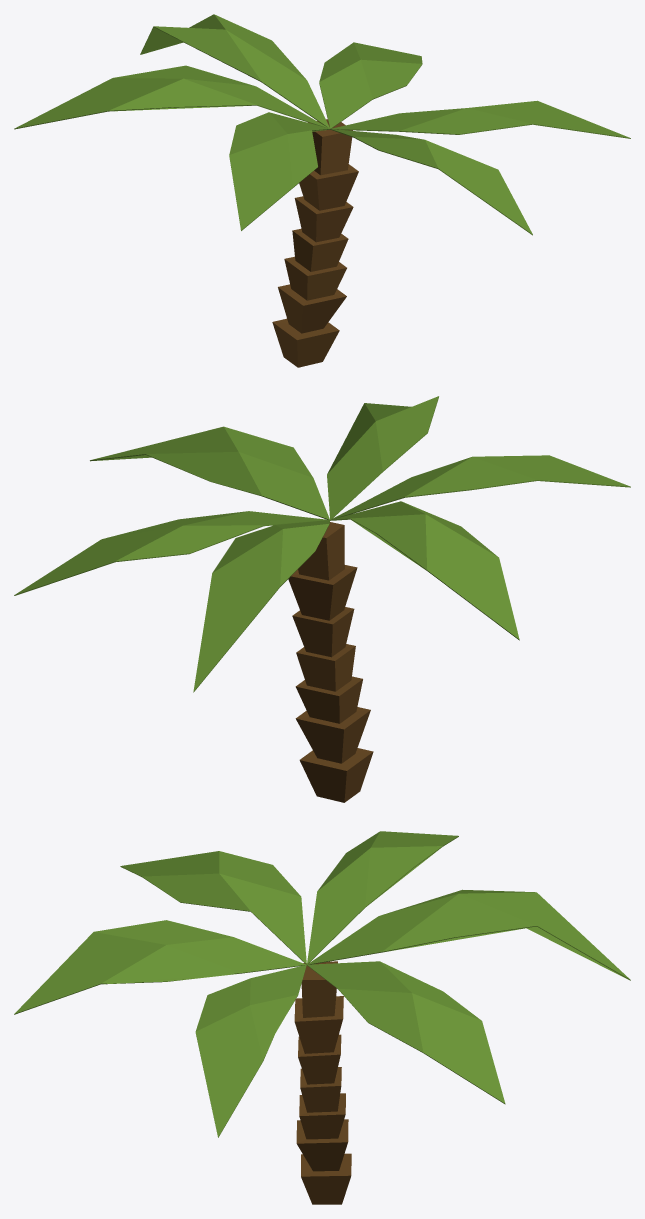
The model's file is tree_palm.glb.
3 renders of one model, top to bottom at view 1: azimuth 30°, elevation 25°; view 2: azimuth 150°, elevation 25°; view 3: azimuth 270°, elevation 25°, orthographic. The views are drawn at different scales.
Parts seen in each view (by area): view 1: Cube.005; view 2: Cube.005; view 3: Cube.005.
Part boxes in pixels (x1,y1,x2,y2): Cube.005: (14, 14, 630, 367); Cube.005: (14, 396, 630, 802); Cube.005: (14, 831, 630, 1204).
Size of the model in its own units: 6.75 by 3.73 by 6.94.
Materials: 1 (1 with a texture image).
